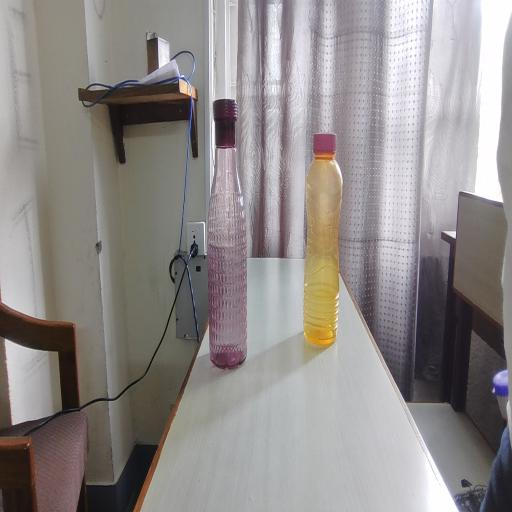Bottle: (201, 94, 270, 383), (305, 129, 351, 371)
